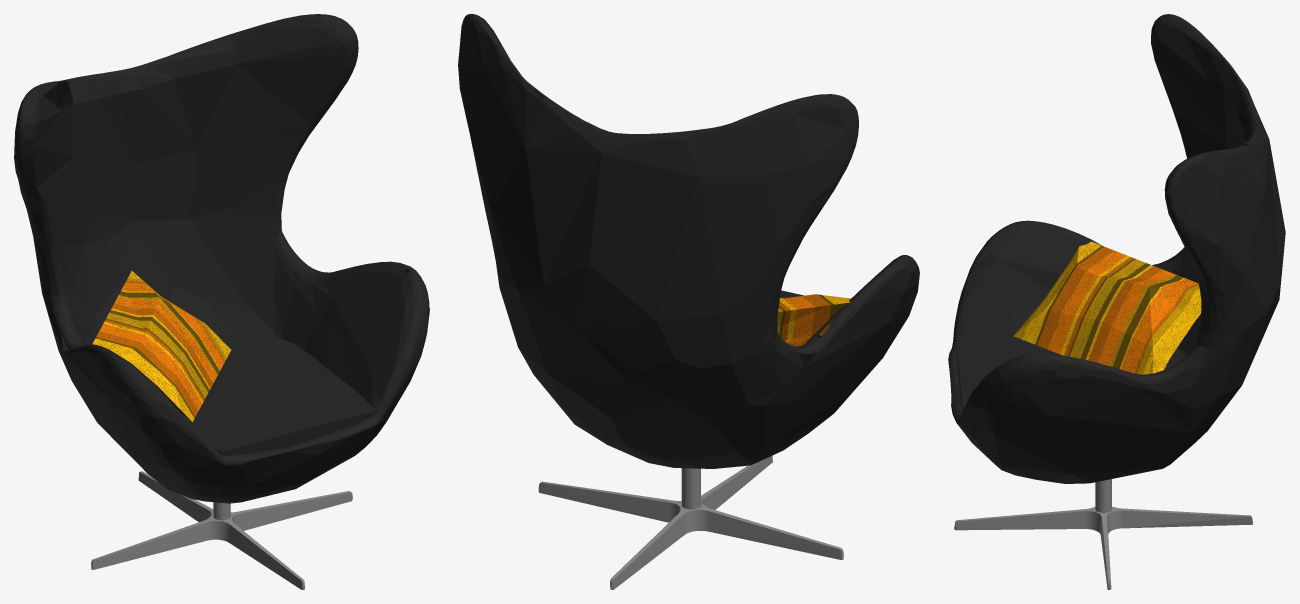
The model's file is chair1.dae.
The picture shows the model from 3 angles, left to right: view 1: azimuth 30°, elevation 25°; view 2: azimuth 150°, elevation 25°; view 3: azimuth 270°, elevation 25°; orthographic projection. The views are drawn at different scales.
Visible parts, largest first — view 1: Component1 (×3), Component3 (×8); view 2: Component1 (×3), Component3 (×2); view 3: Component1 (×4), Component3 (×13).
Part boxes in pixels (x1=…): Component1 (×3): x1=14, y1=14, x2=429, y2=589; Component3 (×8): x1=92, y1=282, x2=224, y2=421; Component1 (×3): x1=458, y1=14, x2=919, y2=589; Component3 (×2): x1=783, y1=294, x2=830, y2=346; Component1 (×4): x1=948, y1=14, x2=1285, y2=589; Component3 (×13): x1=1022, y1=241, x2=1201, y2=374.
Size of the model in its own units: 42.07 by 36.41 by 52.09.
